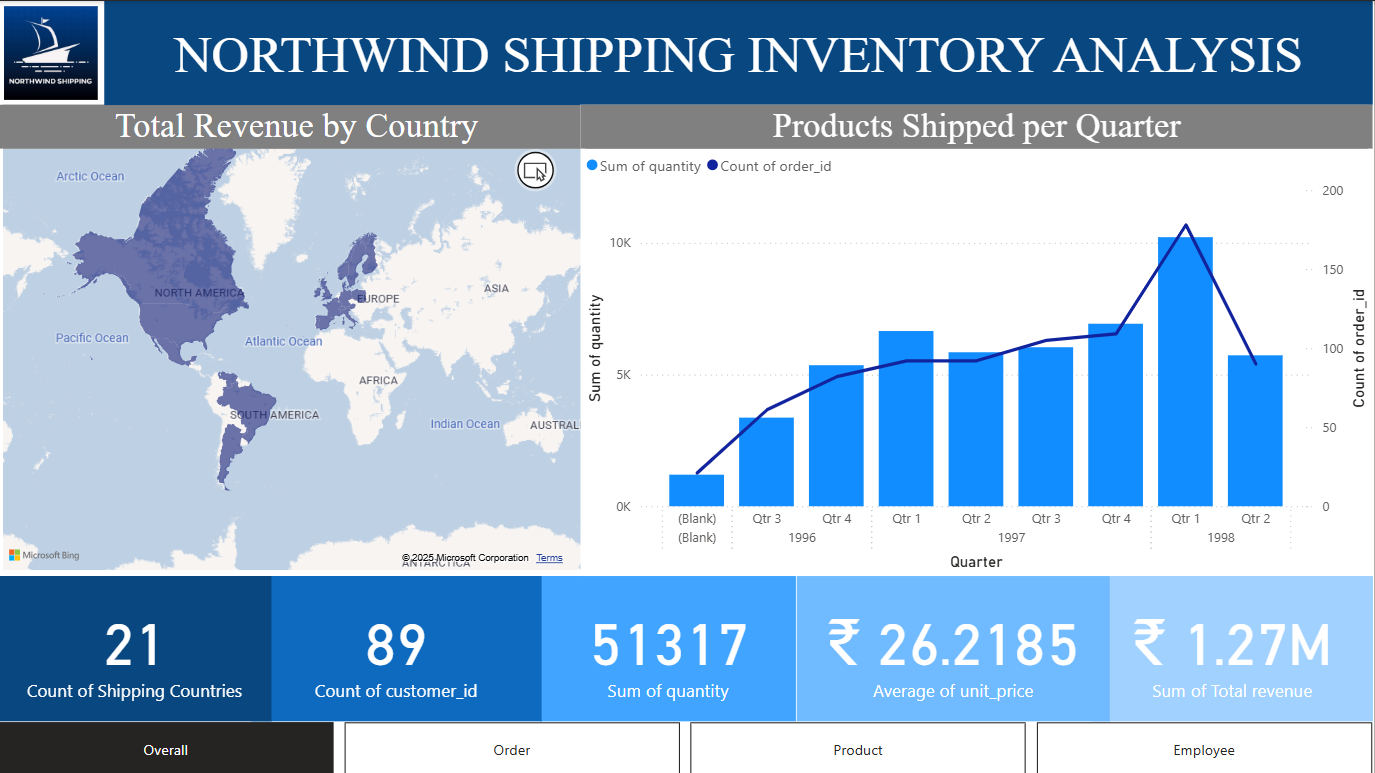

What the dashboard file says about the page in this screenshot:
{"tool":"powerbi","page":{"name":"Overall","canvas":[1280,720],"ordinal":0},"visuals":[{"type":"card","fields":{"Values":["Sum(Product Details.Total revenue)"]},"box":[1017.6,534.8,261.8,135.6],"z":0},{"type":"card","fields":{"Values":["Avg(Product Details.unit_price)"]},"box":[742.8,534.8,291.5,135.6],"z":1000},{"type":"filledMap","title":"Total Revenue by Country","fields":{"Category":["Shipping Details.ship_country"]},"box":[0,96.6,555.2,438.2],"z":2000},{"type":"card","fields":{"Values":["Sum(Product Details.quantity)"]},"box":[505.1,534.8,237.7,135.6],"z":3000},{"type":"card","fields":{"Values":["Count(Shipping Details.customer_id)"]},"box":[235.8,534.8,269.2,135.6],"z":4000},{"type":"card","fields":{"Values":["Count(Shipping Details.ship_country)"]},"box":[0,534.8,254.4,135.6],"z":5000},{"type":"textbox","box":[99.2,0,1179.9,96.5],"z":6000},{"type":"image","box":[0,0,98.5,96.9],"z":7000},{"type":"lineClusteredColumnComboChart","title":"Products Shipped per Quarter","fields":{"Y2":["CountNonNull(Shipping Details.order_id)"],"Y":["Sum(Product Details.quantity)"],"Category":["Shipping Details.shipped_date.Variation.Date Hierarchy.Year","Shipping Details.shipped_date.Variation.Date Hierarchy.Quarter"]},"box":[542.2,96.6,737.2,438.2],"z":8000},{"type":"pageNavigator","box":[0,670.9,1279.4,49.1],"z":10000}]}

Visuals, with their boxes in screenshot pixels (x1, y1, x2, y2), scaled from the page's 1280x720 canvas onto the 1375x773 screenshot:
card - Sum(Product Details.Total revenue): bbox=[1093, 574, 1374, 720]
card - Avg(Product Details.unit_price): bbox=[798, 574, 1111, 720]
"Total Revenue by Country" filledMap: bbox=[0, 104, 596, 574]
card - Sum(Product Details.quantity): bbox=[543, 574, 798, 720]
card - Count(Shipping Details.customer_id): bbox=[253, 574, 542, 720]
card - Count(Shipping Details.ship_country): bbox=[0, 574, 273, 720]
textbox: bbox=[107, 0, 1374, 104]
image: bbox=[0, 0, 106, 104]
"Products Shipped per Quarter" lineClusteredColumnComboChart: bbox=[582, 104, 1374, 574]
pageNavigator: bbox=[0, 720, 1374, 772]
